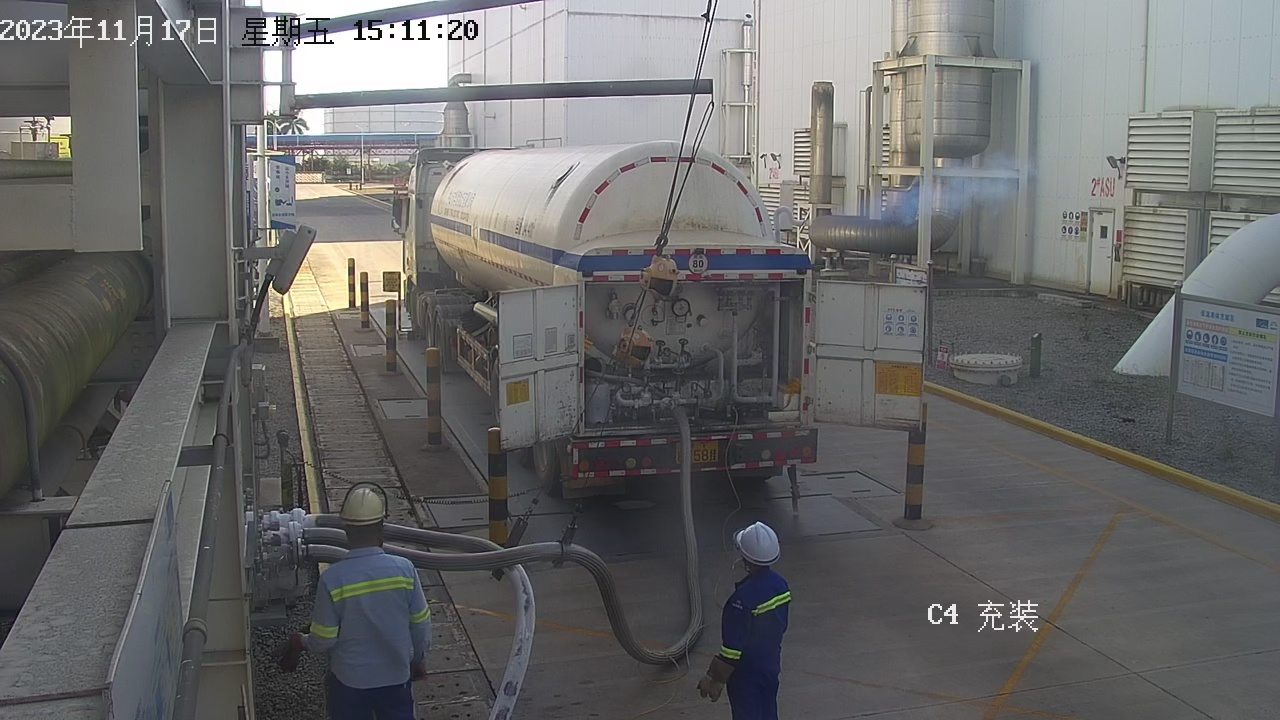Head_with_Helmet: (303, 467, 414, 561), (703, 515, 805, 588)
Uniform: (272, 530, 468, 720), (679, 568, 822, 720)
